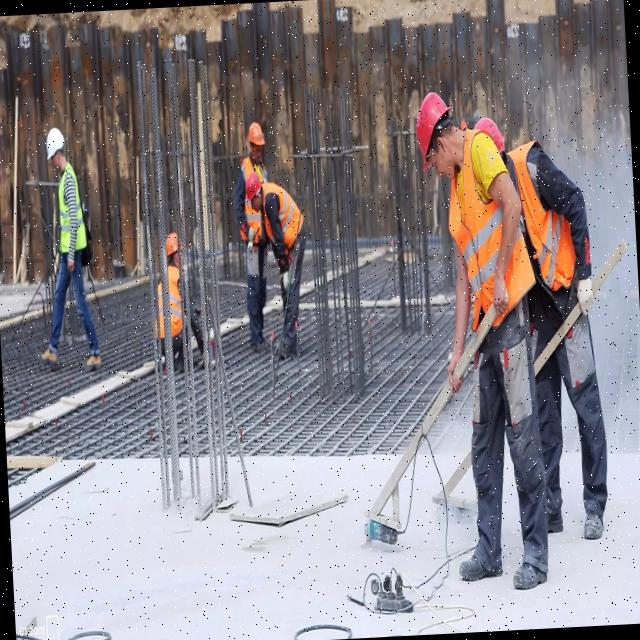Helmet: (415, 90, 455, 178), (473, 118, 507, 151), (46, 128, 67, 163), (246, 174, 266, 207), (248, 124, 266, 154), (165, 233, 181, 265)
Jacket: (450, 145, 518, 324), (516, 158, 578, 289), (59, 170, 82, 252), (266, 189, 300, 239), (169, 267, 182, 336)
